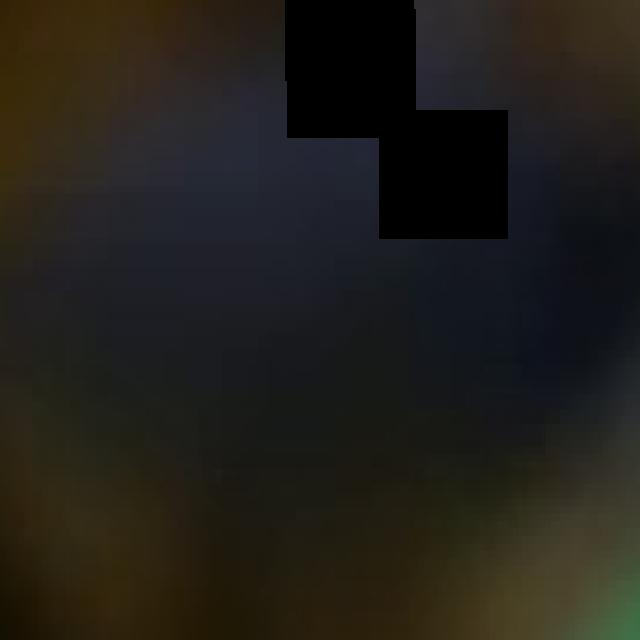fish: (4, 7, 640, 639)
